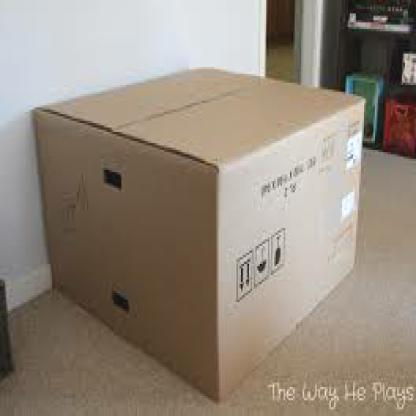package: (33, 66, 367, 403)
